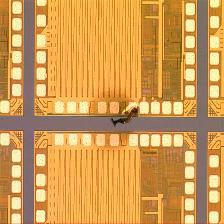PARTICLE: (112, 106, 142, 128)
